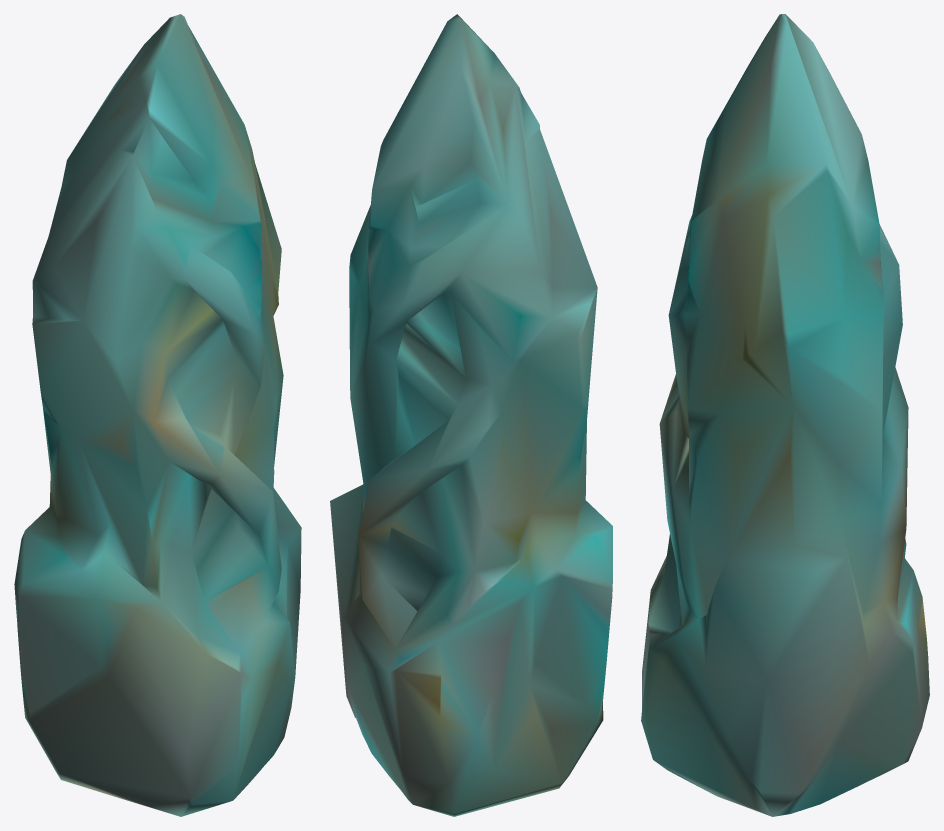
File: SmallDrop_game.glb
The picture shows the model from 3 angles, left to right: view 1: azimuth 30°, elevation 25°; view 2: azimuth 150°, elevation 25°; view 3: azimuth 270°, elevation 25°; orthographic projection. The views are drawn at different scales.
Parts seen in each view (by area): view 1: SmallDrop; view 2: SmallDrop; view 3: SmallDrop.
Boxes of the visible parts, box(x1,y1,x2,y2) form: SmallDrop: box(14, 14, 301, 816); SmallDrop: box(330, 14, 612, 816); SmallDrop: box(641, 14, 929, 816).
Size of the model in its own units: 0.4494 by 1.15 by 0.3968.
